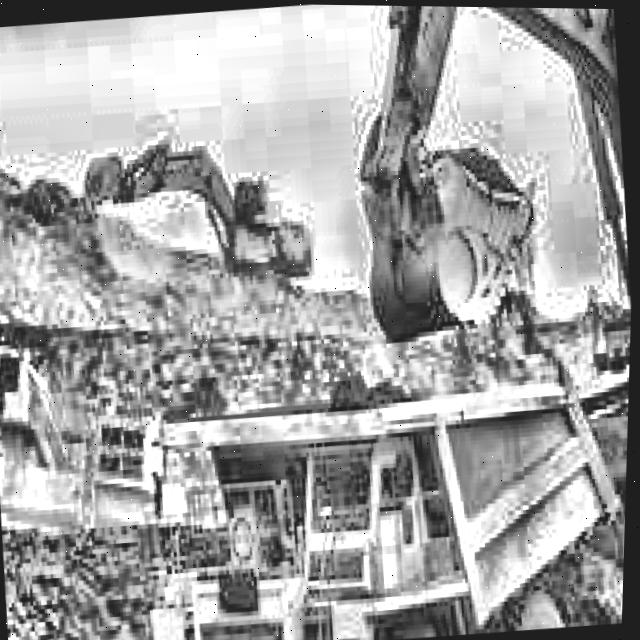dump_truck: (138, 345, 632, 640)
excavator: (325, 4, 640, 483), (66, 103, 336, 324)
